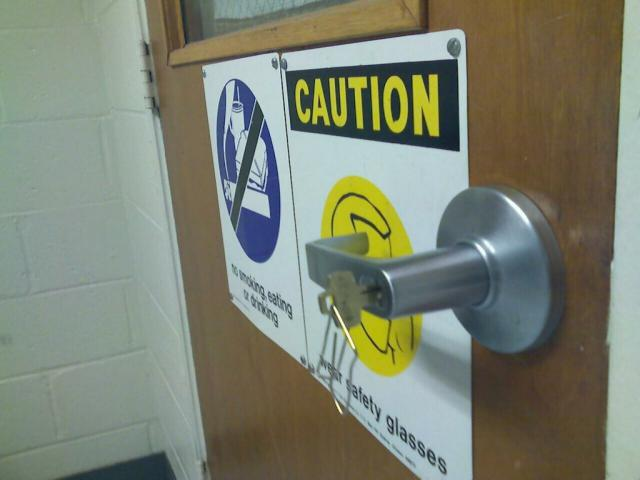Door-handle: (304, 183, 568, 355)
